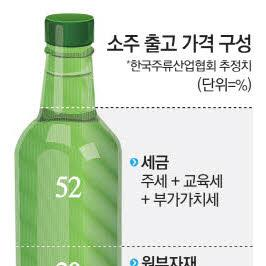soju: (12, 11, 123, 266)
